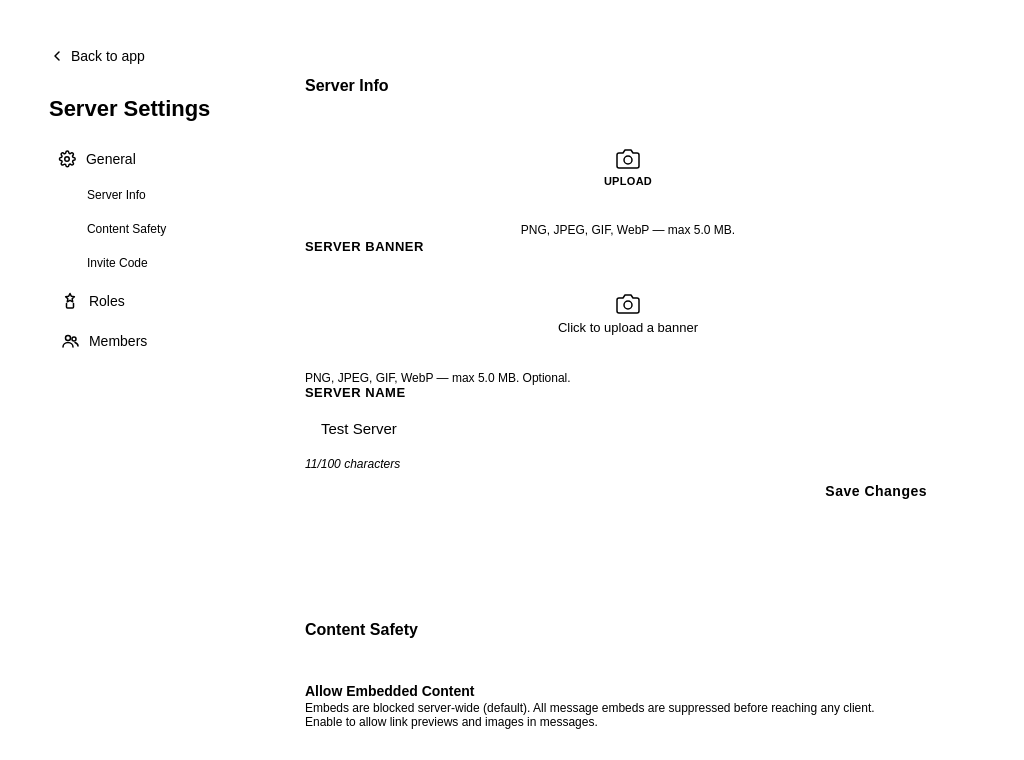
Scenario: a save that fails for another reason › words a failure with no body as the page always did
Click the button "Save Changes". click: (876,491)
box: [801,471,951,511]
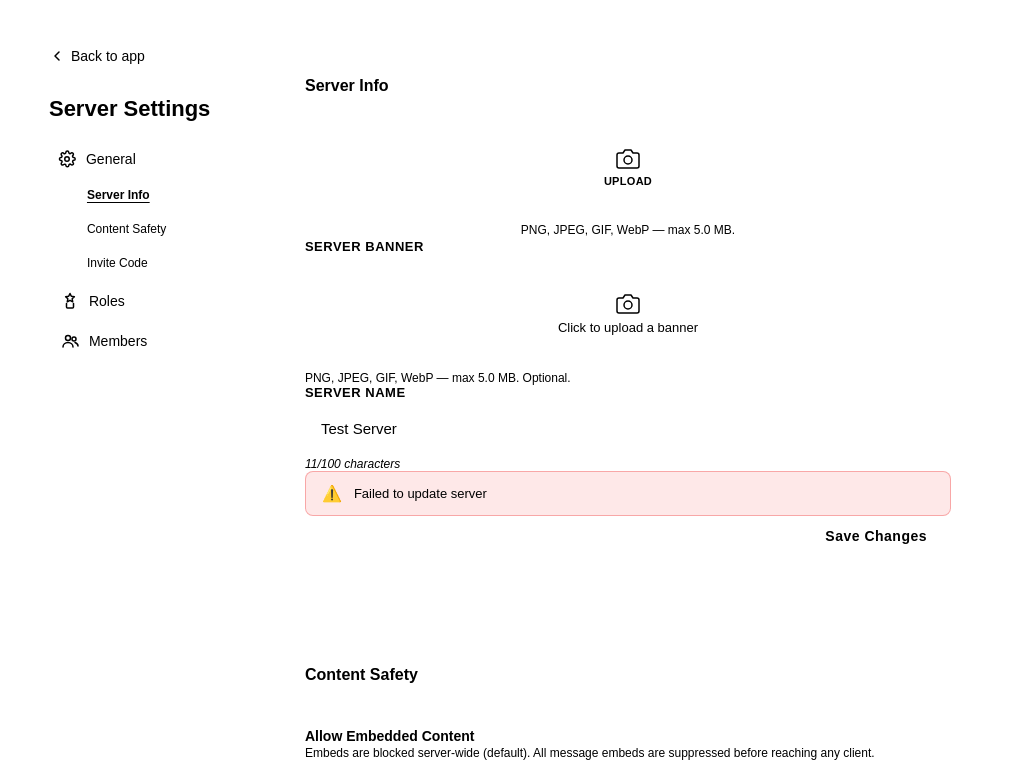
Expected: the text "Failed to update server" is shown, [354,486,487,501]
